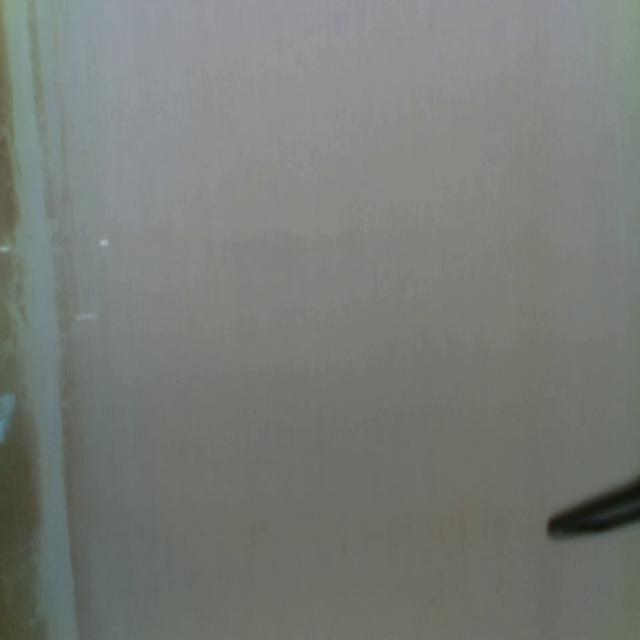color bleeding: (0, 0, 96, 637)
